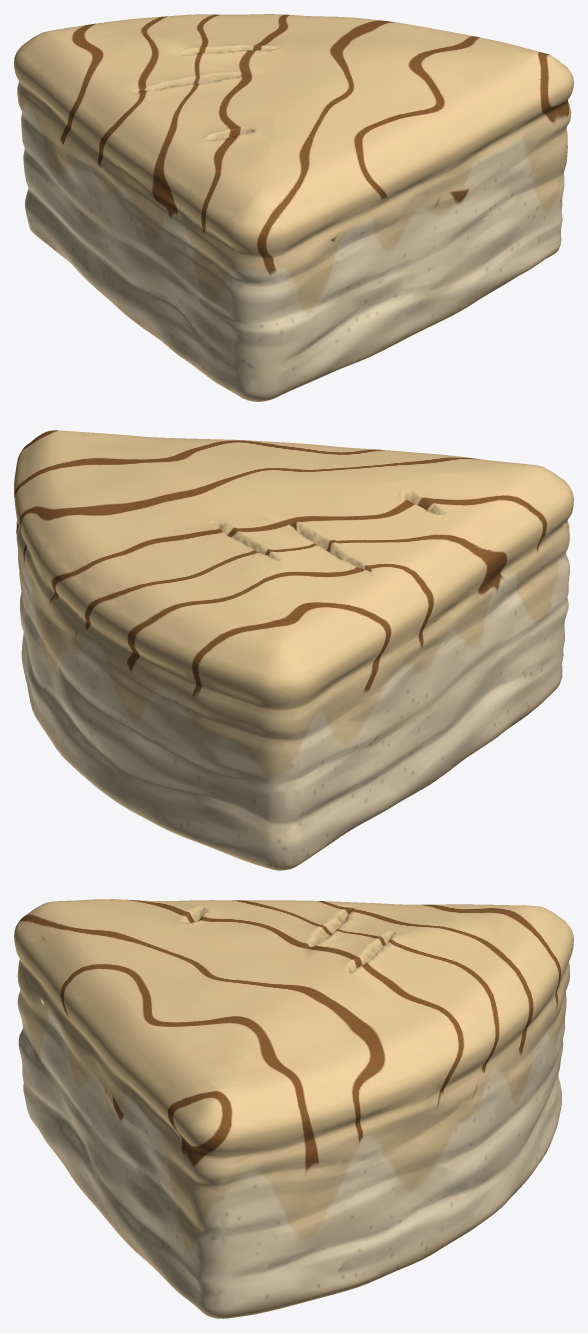
Rendered from scone--banana-slice.glb.
3 views of the same model, one above another, from view 1: azimuth 30°, elevation 25°; view 2: azimuth 150°, elevation 25°; view 3: azimuth 270°, elevation 25° (orthographic). The views are drawn at different scales.
Visible parts, largest first — view 1: scone_banana-slice; view 2: scone_banana-slice; view 3: scone_banana-slice.
Boxes of the visible parts, x1,y1,x2,y2 form: scone_banana-slice: [14, 14, 573, 401]; scone_banana-slice: [14, 430, 573, 870]; scone_banana-slice: [14, 899, 573, 1318].
Bounding box in the file's own units: 0.9363 × 0.464 × 0.9885.
1 material, 1 textured.
